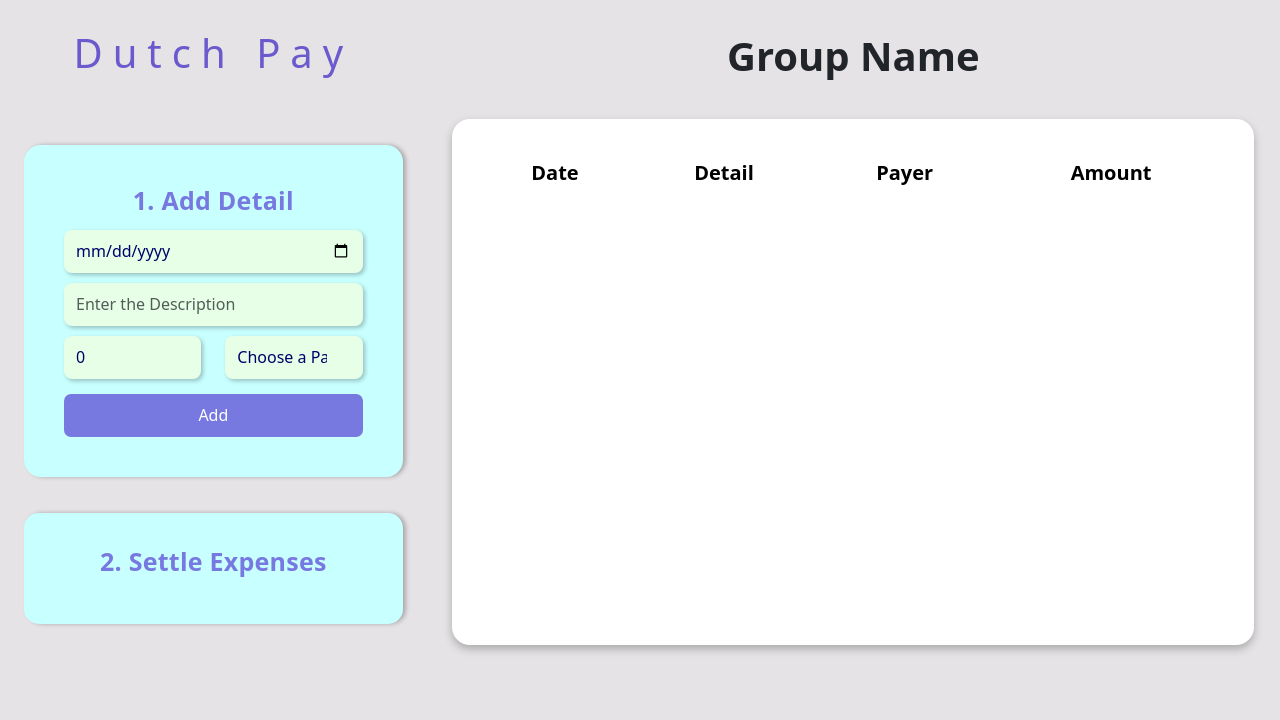
Test case: Expense Settlement Main Page › When New Expense Is Entered, › Settlement Result Should Be Updated
The width and height of the screenshot is (1280, 720).
Type "2023-10-10" into the date field with placeholder "Choose the Date" at (213, 251), box [64,230,363,273]
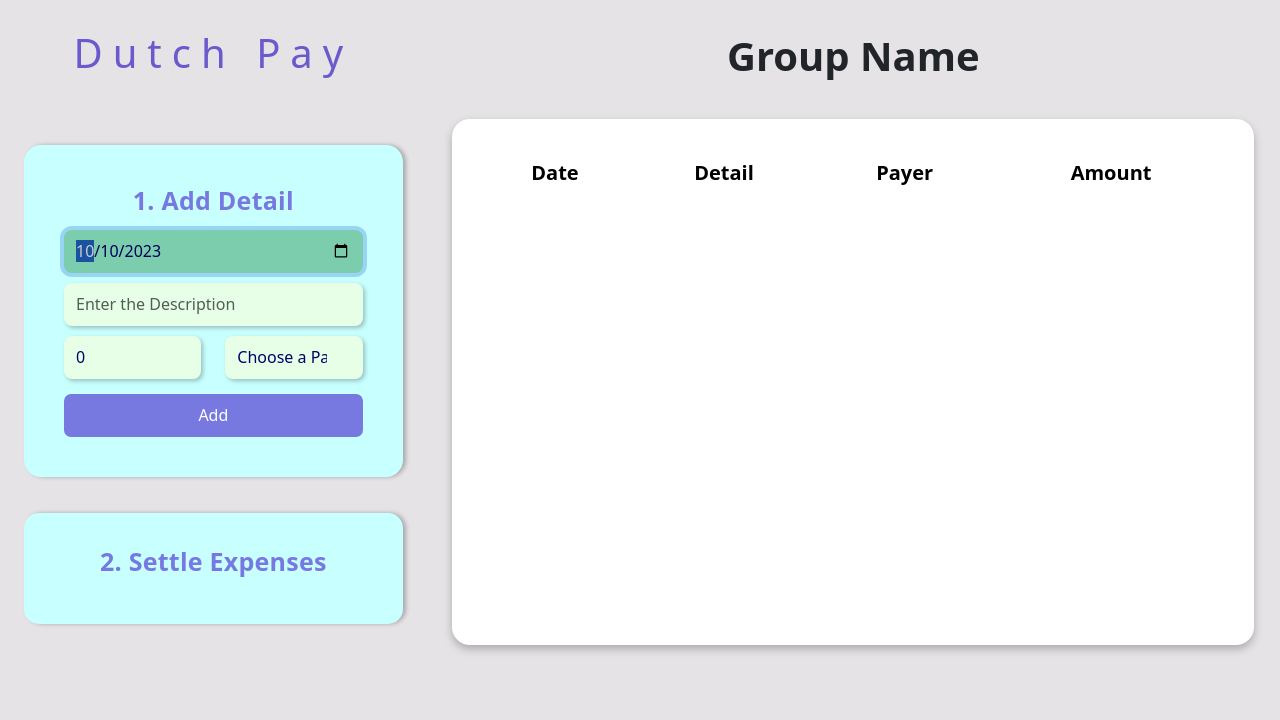
Type "Tesco" into the field with placeholder "Enter the Description" at (213, 304), box [64,283,363,326]
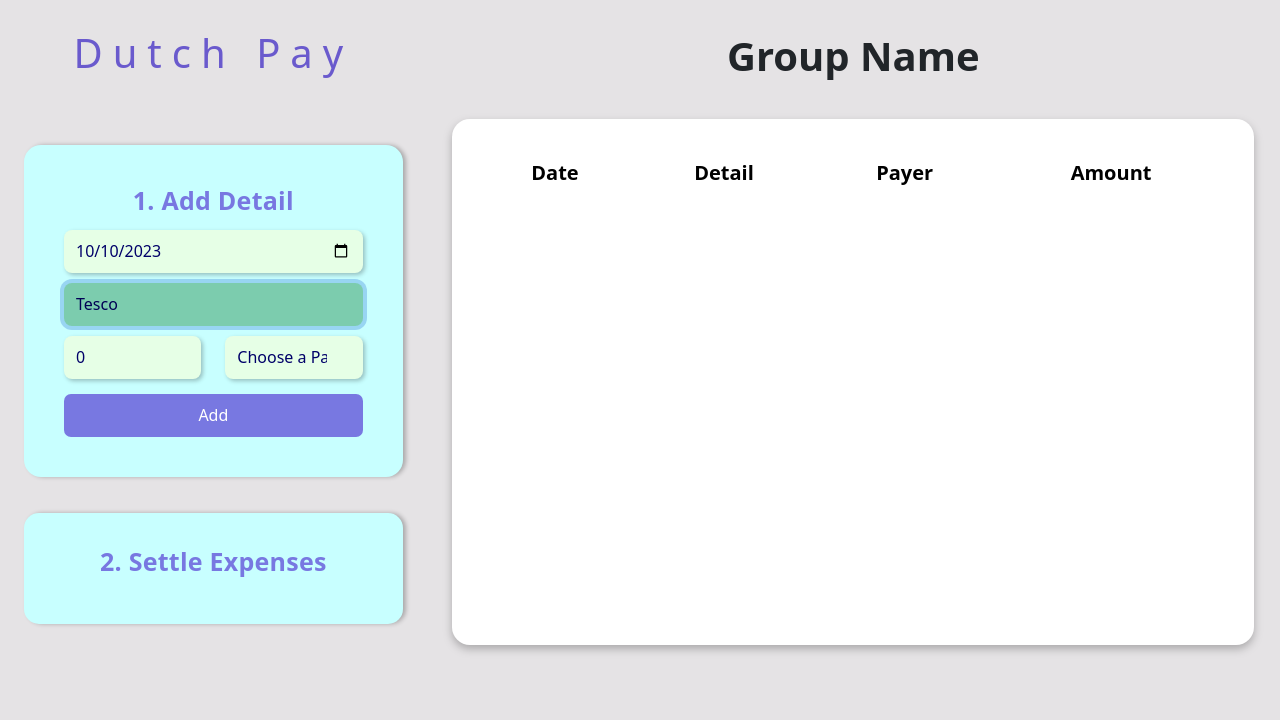
Type "100" into the number field with placeholder "Amount" at (133, 357), box [64,336,201,379]
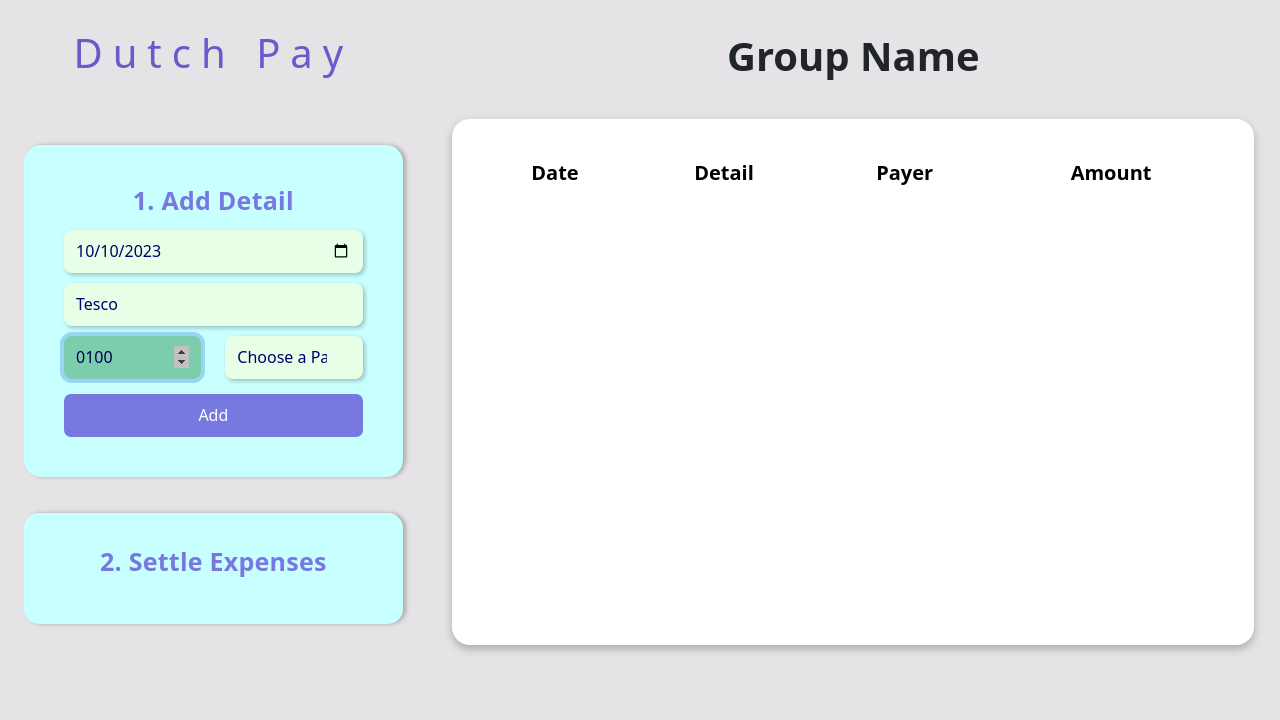
Select "David" in the dropdown showing "Choose a Payer" at (294, 357), box [225,336,363,379]
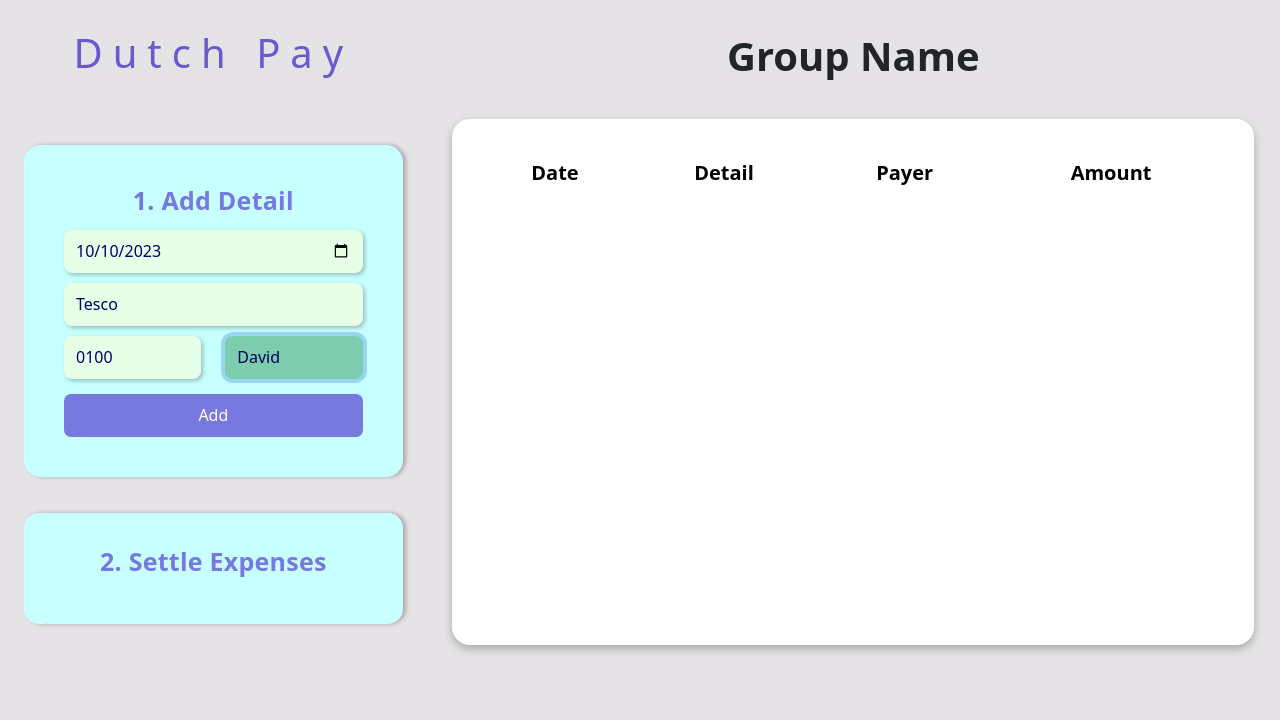
Click the button "Add" at (213, 415), box [64,394,363,437]
(page scrolled)
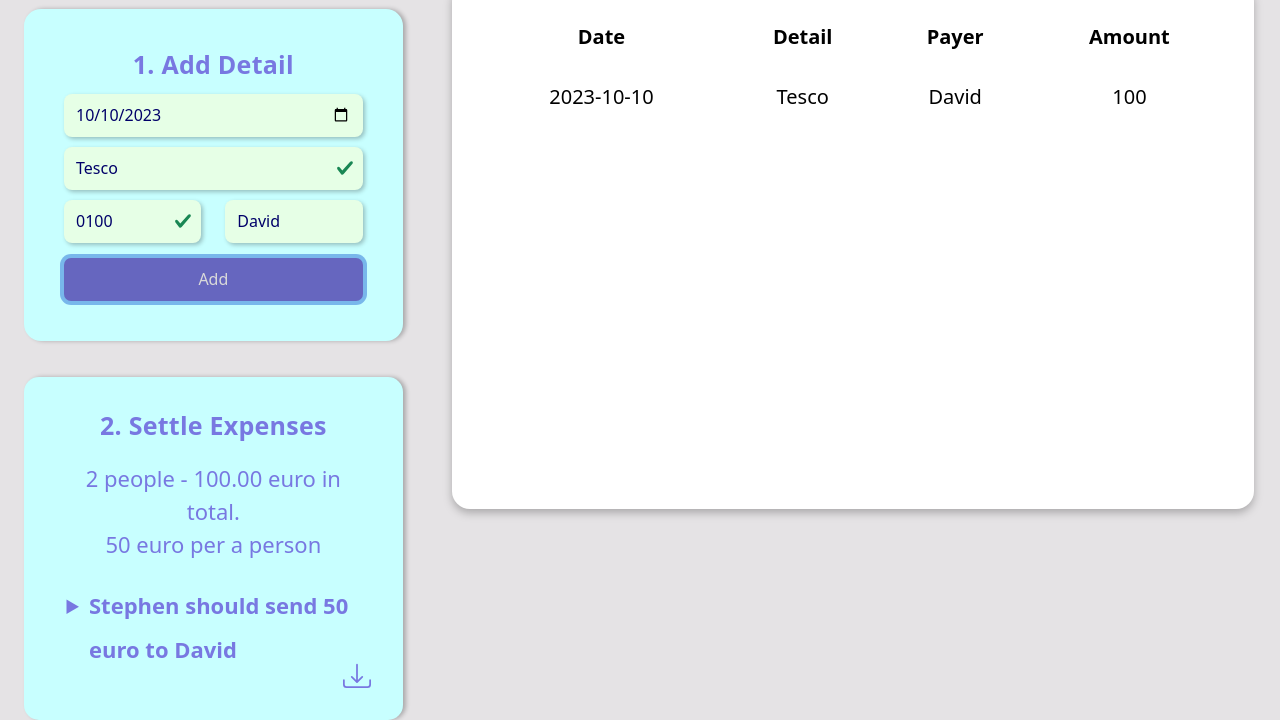
Expected: the text "2 people - 100.00 euro in total." is shown, [86,463,341,526]
Expected: the text "Stephen should send 50 euro to David" is shown, [89,590,348,664]
